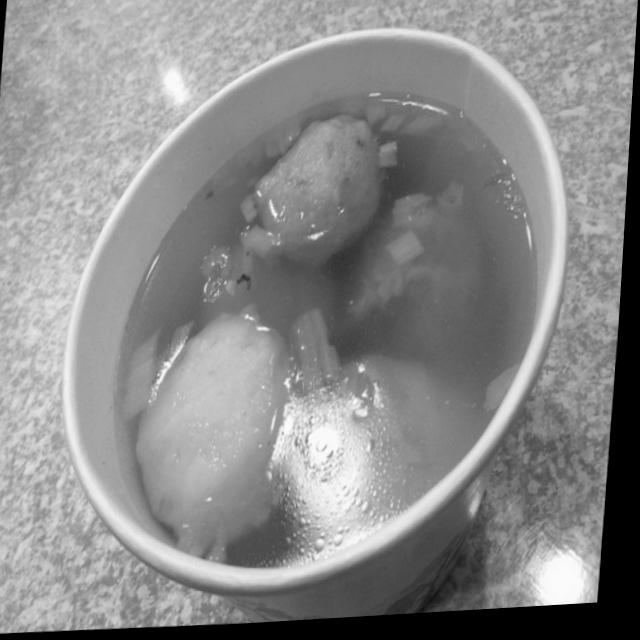熟制海鲜: (116, 105, 522, 566)
